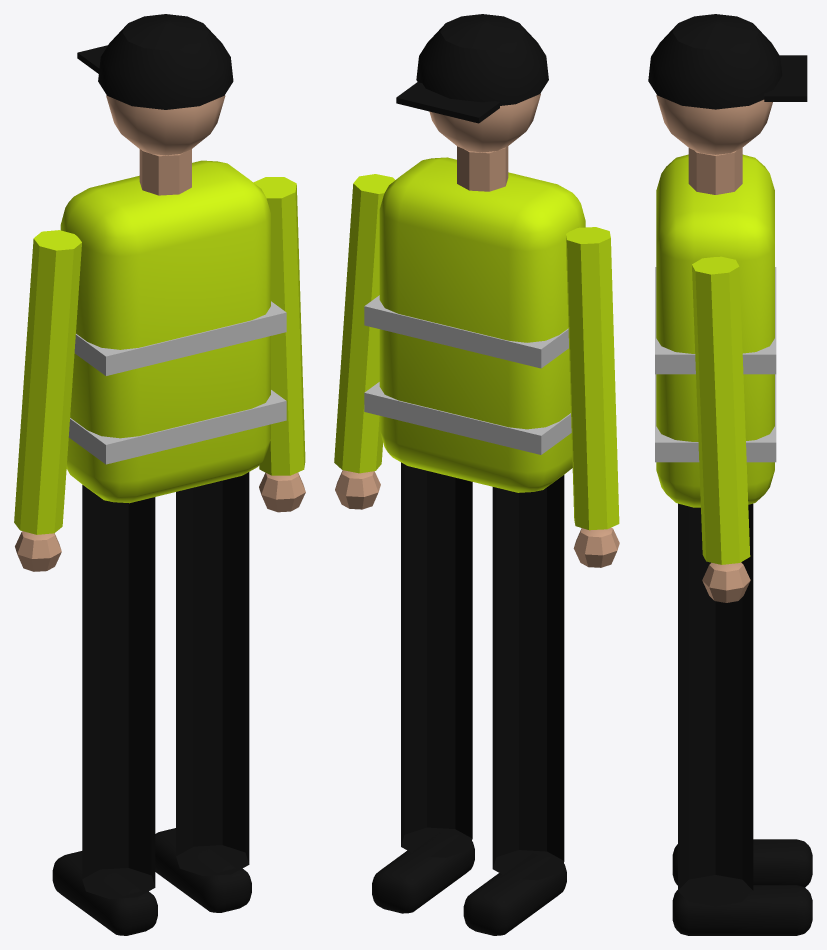
Rendered from people.staff.security.glb.
3 views of the same model, side by side, from view 1: azimuth 30°, elevation 25°; view 2: azimuth 150°, elevation 25°; view 3: azimuth 270°, elevation 25° (orthographic). The views are drawn at different scales.
Parts seen in each view (by area): view 1: main__plastic_black, main__hivis_yellow, main__steel_stainless, main__skin; view 2: main__plastic_black, main__hivis_yellow, main__steel_stainless, main__skin; view 3: main__plastic_black, main__hivis_yellow, main__skin, main__steel_stainless.
Part boxes in pixels (<box>): main__plastic_black: <box>52,14,251,935</box>; main__hivis_yellow: <box>14,160,305,534</box>; main__steel_stainless: <box>68,301,286,464</box>; main__skin: <box>15,95,305,571</box>; main__plastic_black: <box>372,14,566,935</box>; main__hivis_yellow: <box>334,157,619,530</box>; main__steel_stainless: <box>364,295,571,454</box>; main__skin: <box>335,93,619,567</box>; main__plastic_black: <box>648,14,812,935</box>; main__hivis_yellow: <box>656,154,774,564</box>; main__skin: <box>656,95,772,602</box>; main__steel_stainless: <box>655,267,776,462</box>.
Size of the model in its own units: 0.61 by 1.81 by 0.305.
